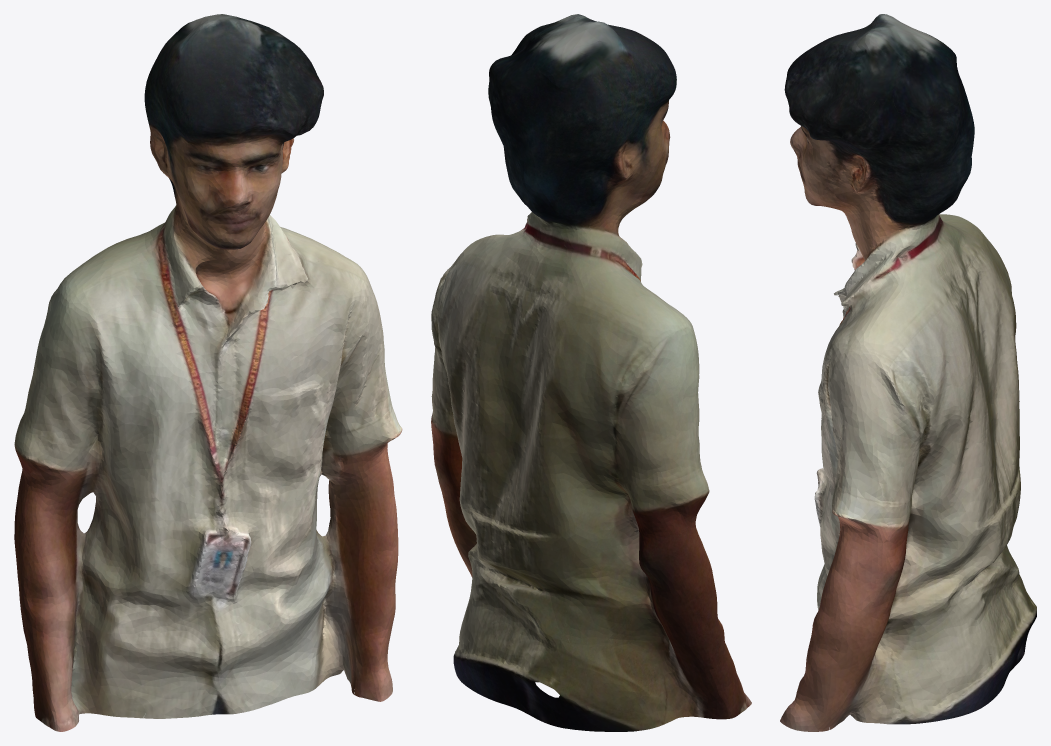
Rendered from saii.glb.
The picture shows the model from 3 angles, left to right: view 1: azimuth 30°, elevation 25°; view 2: azimuth 150°, elevation 25°; view 3: azimuth 270°, elevation 25°; orthographic projection. The views are drawn at different scales.
Bounding box in the file's own units: 0.5671 × 1.09 × 0.3902.
1 material, 1 textured.
